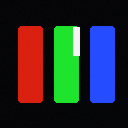4 line_v: (73, 27, 79, 55)
